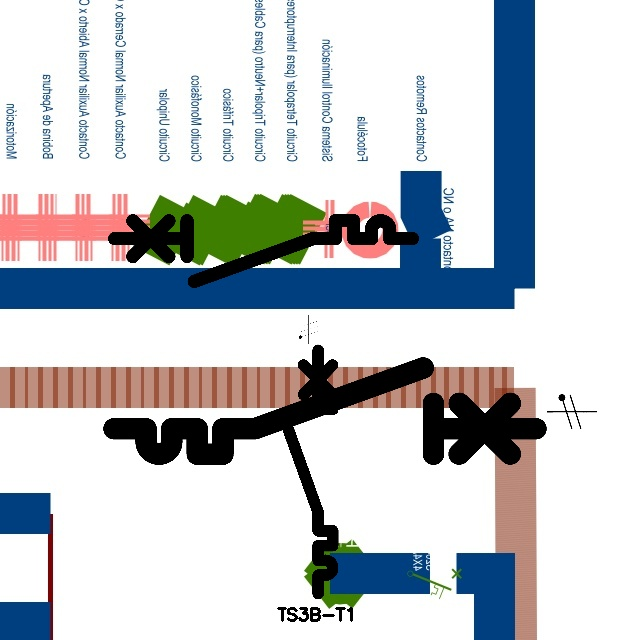interruptor_termomagnetico: (103, 357, 546, 465), (107, 213, 420, 289), (277, 344, 339, 600)
